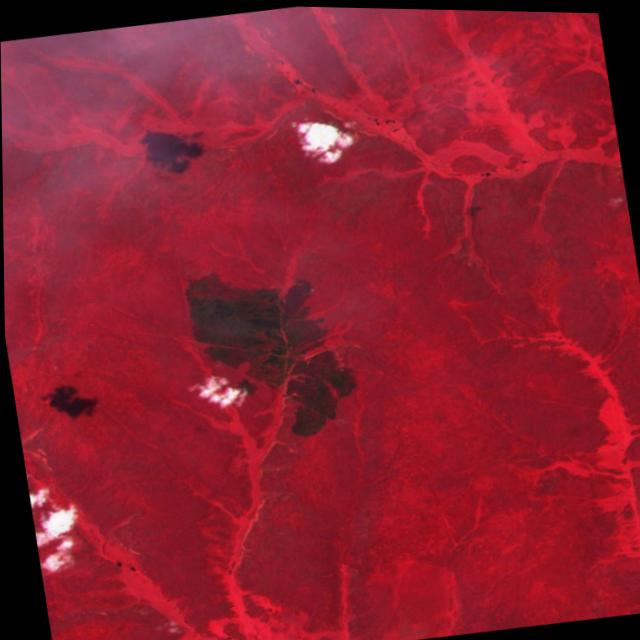fire: (187, 251, 326, 321), (281, 103, 363, 166)
